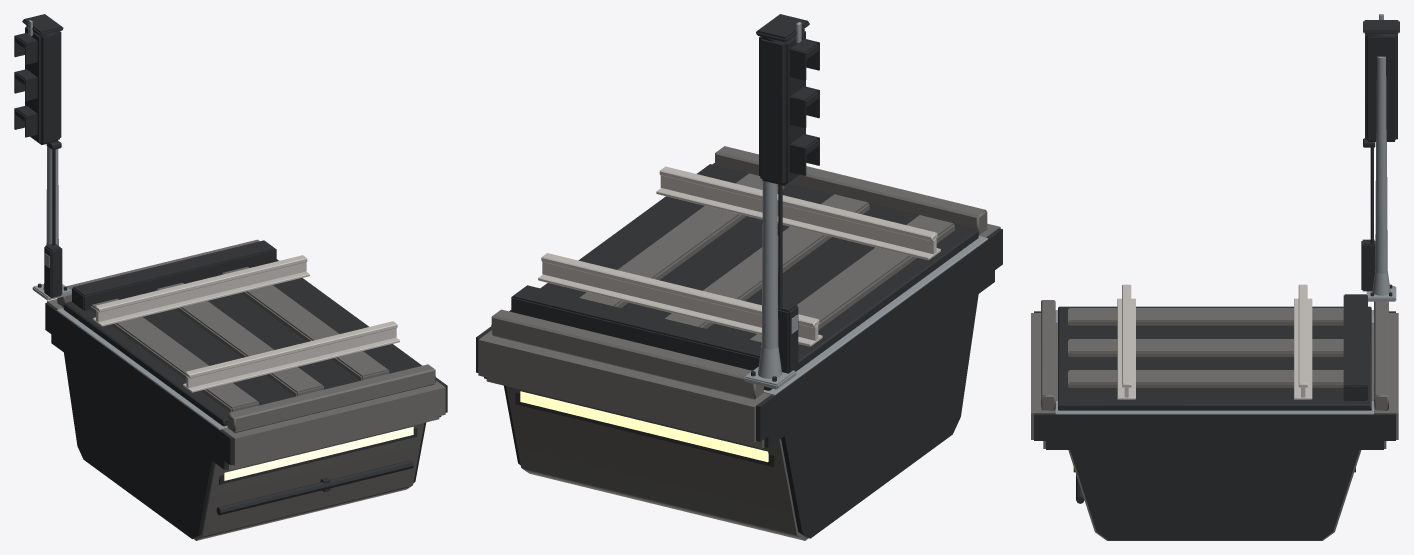
Rendered from east338.glb.
The picture shows the model from 3 angles, left to right: view 1: azimuth 30°, elevation 25°; view 2: azimuth 150°, elevation 25°; view 3: azimuth 270°, elevation 25°; orthographic projection. The views are drawn at different scales.
Parts seen in each view (by area): view 1: stub-dark, stub-conc, stub-rail, mast-dark, stub-led, mast-steel, stub-steel; view 2: stub-dark, stub-conc, stub-rail, mast-dark, mast-steel, stub-led, stub-steel; view 3: stub-dark, stub-conc, mast-dark, stub-rail, mast-steel, stub-steel.
Boxes of the visible parts, box(x1,y1,x2,y2) form: stub-dark: box(45, 240, 447, 538); stub-conc: box(47, 239, 445, 540); stub-rail: box(92, 255, 399, 392); mast-dark: box(14, 14, 67, 297); stub-led: box(224, 426, 413, 480); mast-steel: box(28, 20, 71, 300); stub-steel: box(56, 308, 435, 429); stub-dark: box(476, 163, 1002, 538); stub-conc: box(478, 146, 1000, 540); stub-rail: box(538, 166, 940, 346); mast-dark: box(751, 14, 819, 381); mast-steel: box(743, 22, 801, 389); stub-led: box(520, 391, 768, 462); stub-steel: box(491, 236, 987, 395); stub-dark: box(1034, 294, 1395, 540); stub-conc: box(1031, 300, 1398, 540); mast-dark: box(1361, 20, 1399, 296); stub-rail: box(1117, 284, 1312, 399); mast-steel: box(1366, 14, 1396, 301); stub-steel: box(1055, 310, 1373, 414).
Bounding box in the file's own units: 2.3 × 3.73 × 3.01.
